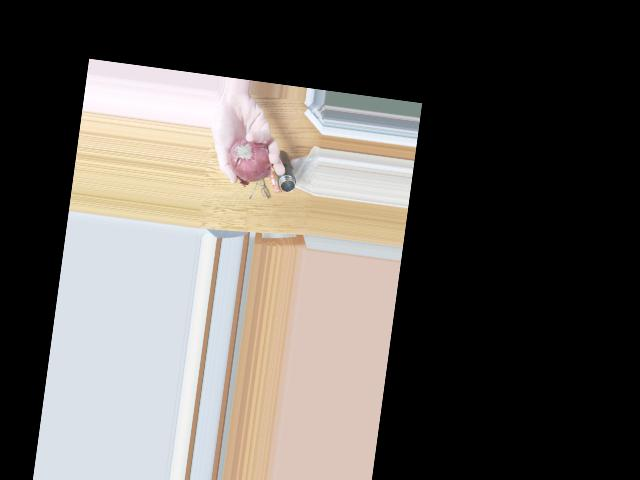onion: (225, 135, 274, 180)
